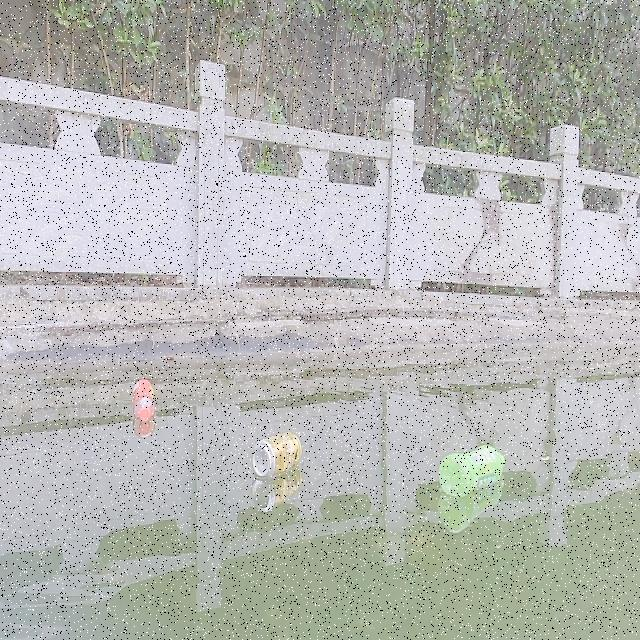Bottle: (434, 441, 507, 496), (121, 370, 155, 426)
Can: (248, 429, 305, 480)
